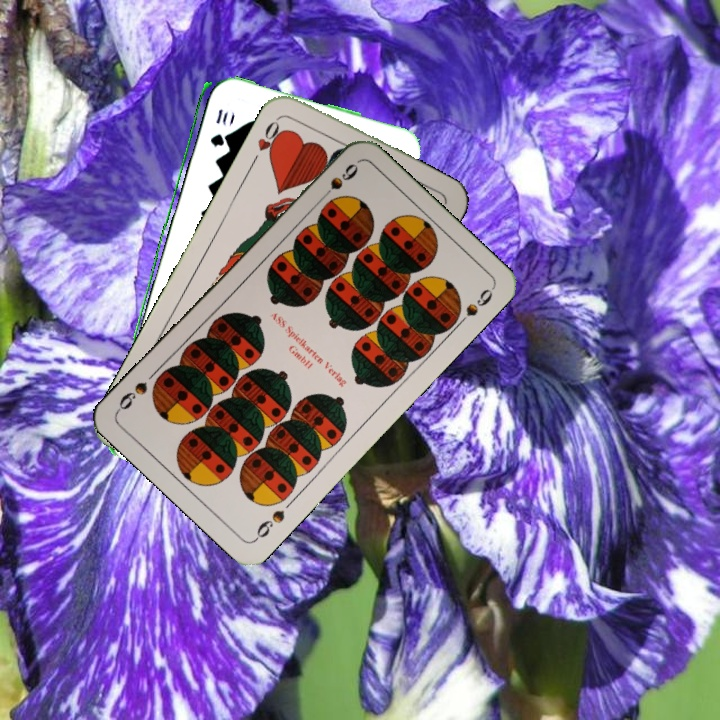G10: (206, 105, 231, 149)
HO: (248, 112, 288, 166)
S9: (314, 159, 361, 205), (250, 505, 288, 544)
